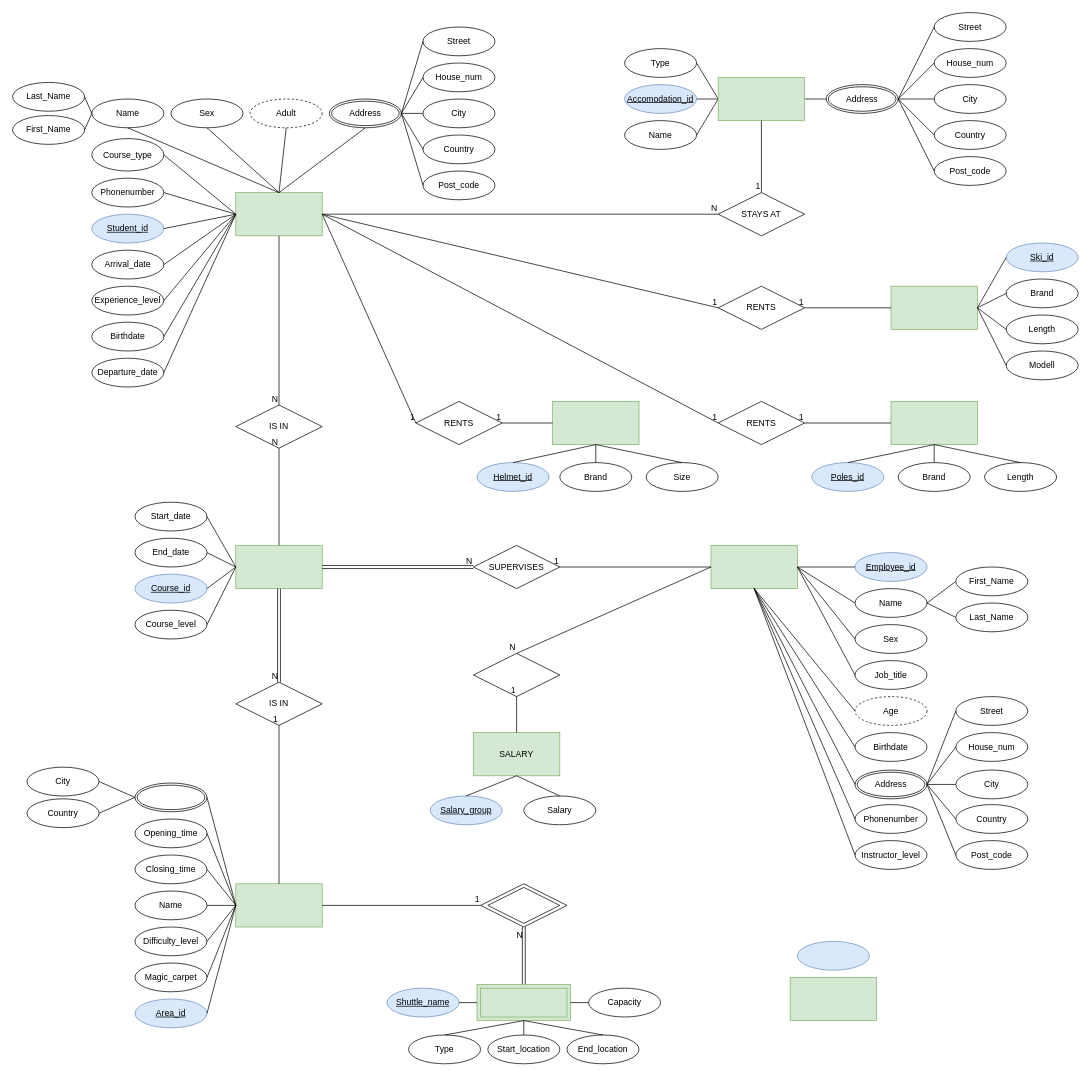
Image size: 1091x1076. Some labels were removed from this diagram. The shapes that lost their labels are listed below. From the top down, each one's centre as x and y in pixels, then its label:
point 761,99: ACCOMODATION
point 278,214: STUDENT
point 933,307: SKI
point 595,423: HELMETS
point 933,423: POLES
point 278,567: COURSE
point 753,567: EMPLOYEE
point 516,675: HAS
point 170,797: Location
point 278,905: AREA
point 523,905: Drives IN
point 833,955: Primary Key
point 523,1002: SHUTTLE
point 833,999: ENTITY
